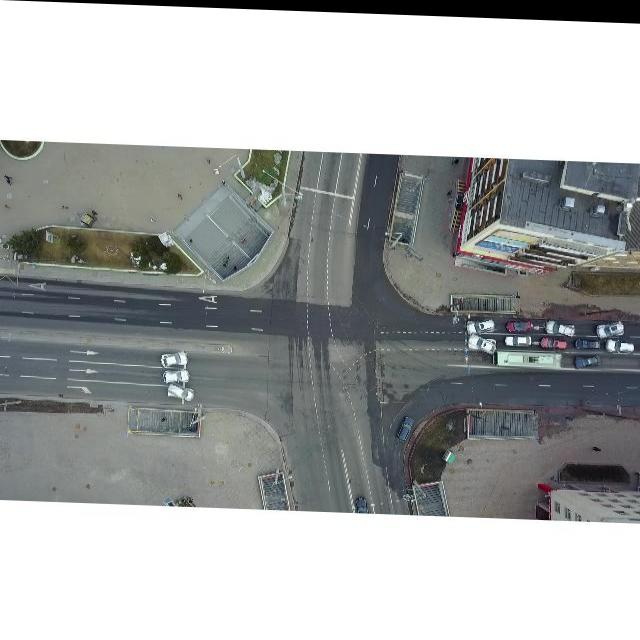vehicle: (544, 316, 576, 333), (466, 314, 496, 332), (468, 331, 497, 349), (167, 383, 195, 400), (596, 317, 624, 334), (160, 350, 188, 366), (162, 368, 190, 383), (506, 316, 534, 330), (606, 335, 634, 349), (574, 350, 602, 364), (540, 332, 568, 346), (504, 331, 532, 343), (575, 335, 601, 345)
